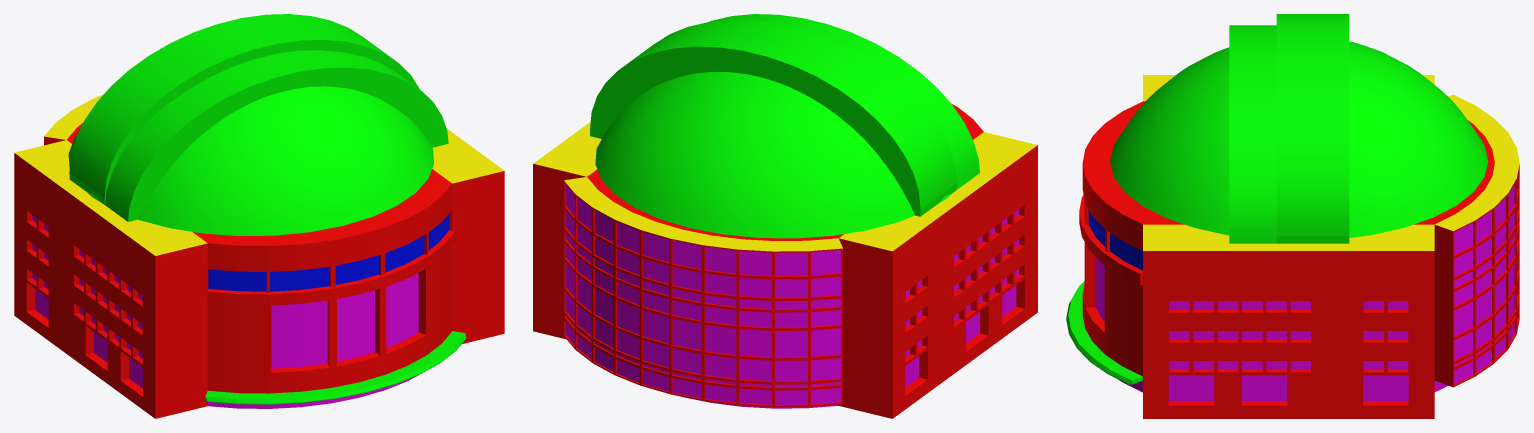
File: Rogers Centre.FBX
3 views of the same model, side by side, from view 1: azimuth 30°, elevation 25°; view 2: azimuth 150°, elevation 25°; view 3: azimuth 270°, elevation 25° (orthographic). The views are drawn at different scales.
Visible parts, largest first — view 1: Base; view 2: Base; view 3: Base.
Boxes of the visible parts, <box> form: Base: <box>14,14,504,418</box>; Base: <box>533,14,1037,418</box>; Base: <box>1066,14,1519,418</box>.
Bounding box in the file's own units: 20199 × 15593 × 21998.
